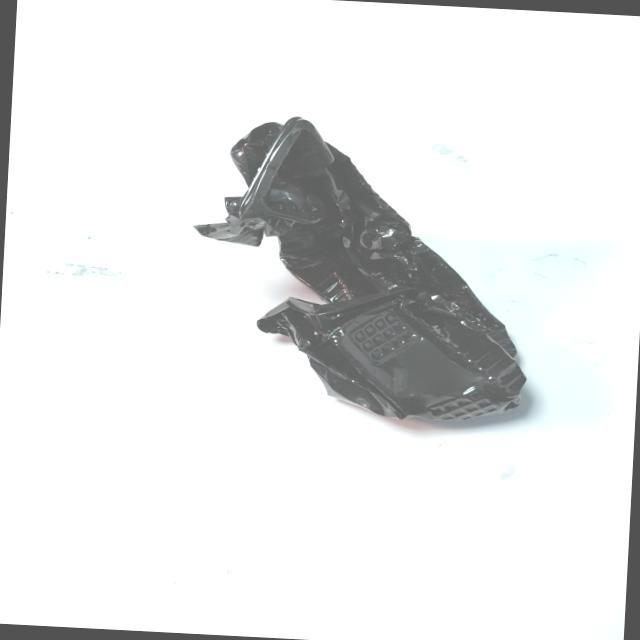plastic: (139, 75, 569, 460)
